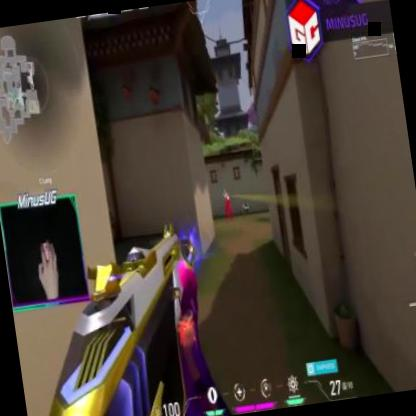enemy: (222, 187, 233, 221)
enemy_head: (224, 190, 229, 197)
